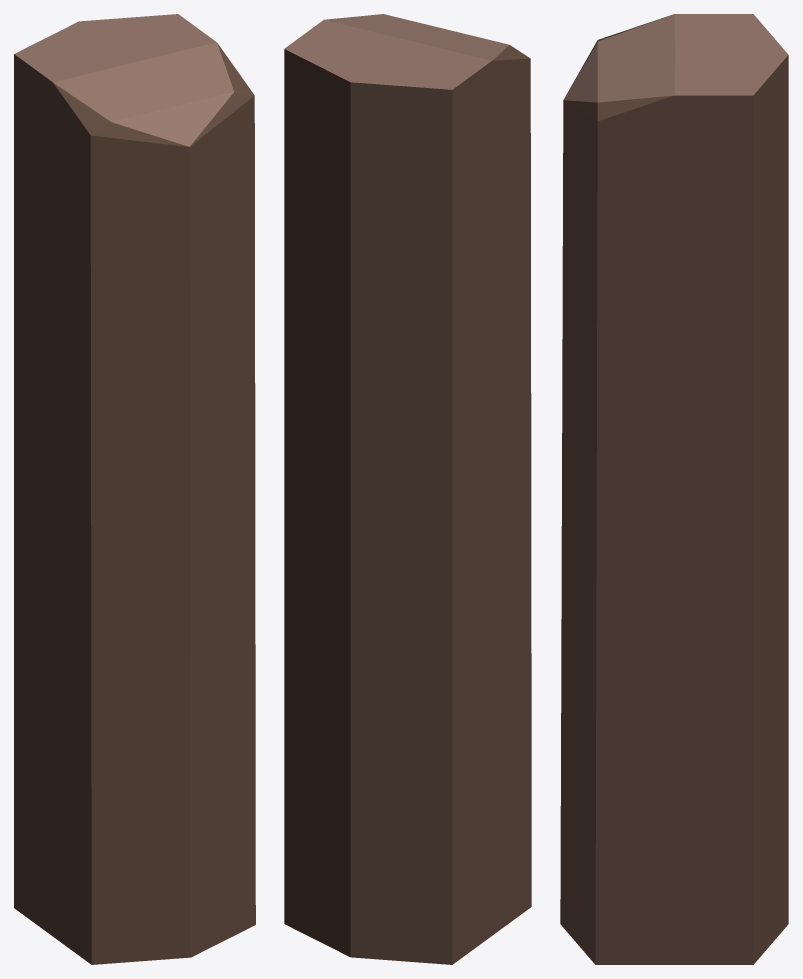
Rendered from stone_pillar_01.glb.
The picture shows the model from 3 angles, left to right: view 1: azimuth 30°, elevation 25°; view 2: azimuth 150°, elevation 25°; view 3: azimuth 270°, elevation 25°; orthographic projection. The views are drawn at different scales.
Parts seen in each view (by area): view 1: Plane.015; view 2: Plane.015; view 3: Plane.015.
Part boxes in pixels (x1,y1,x2,y2): Plane.015: [14, 14, 255, 964]; Plane.015: [284, 14, 531, 964]; Plane.015: [560, 14, 788, 964].
Bounding box in the file's own units: 10 × 49.73 × 11.83.
1 material, 1 textured.
